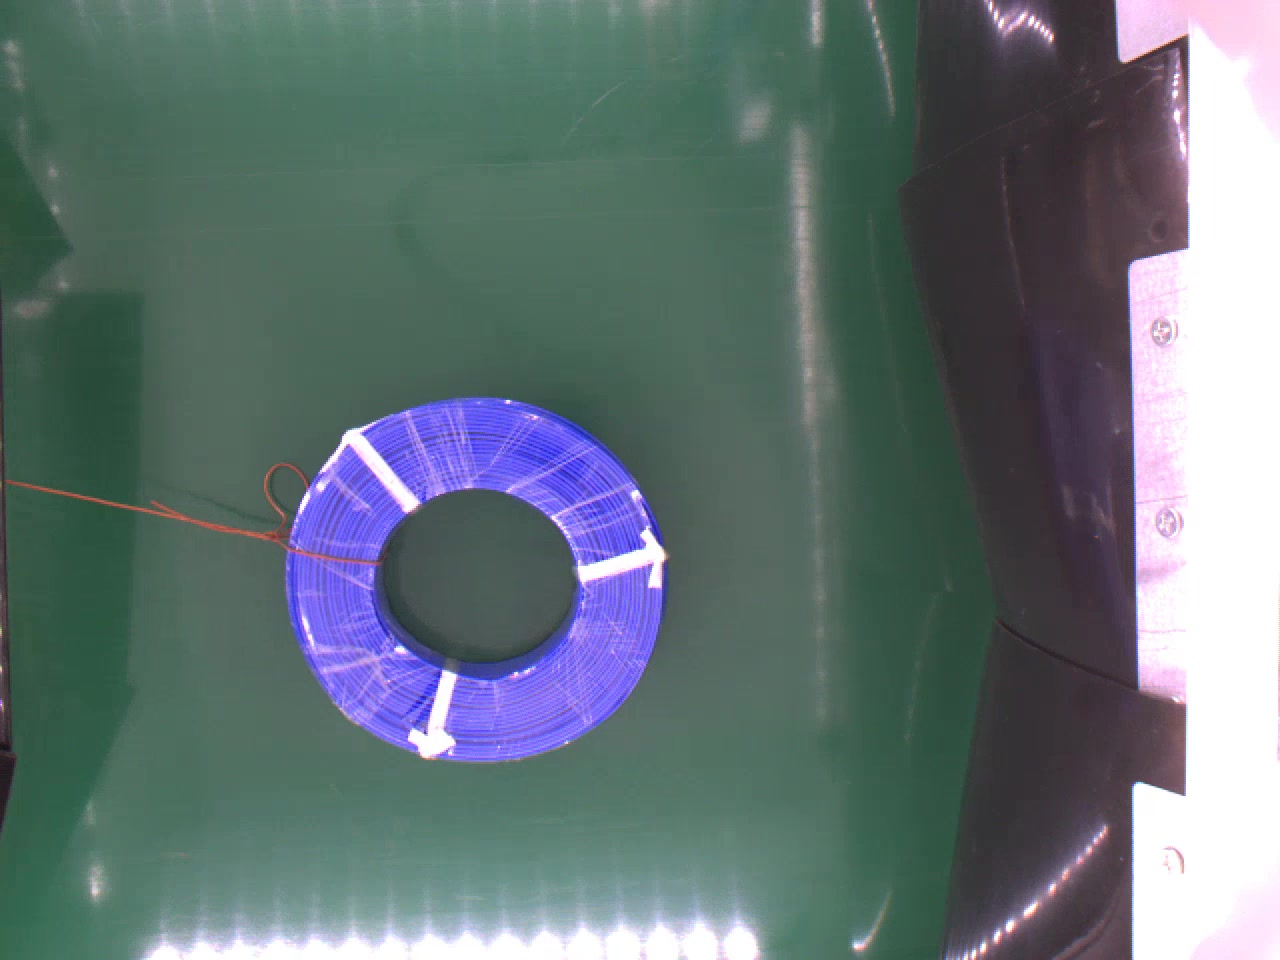blue: (278, 395, 671, 767)
